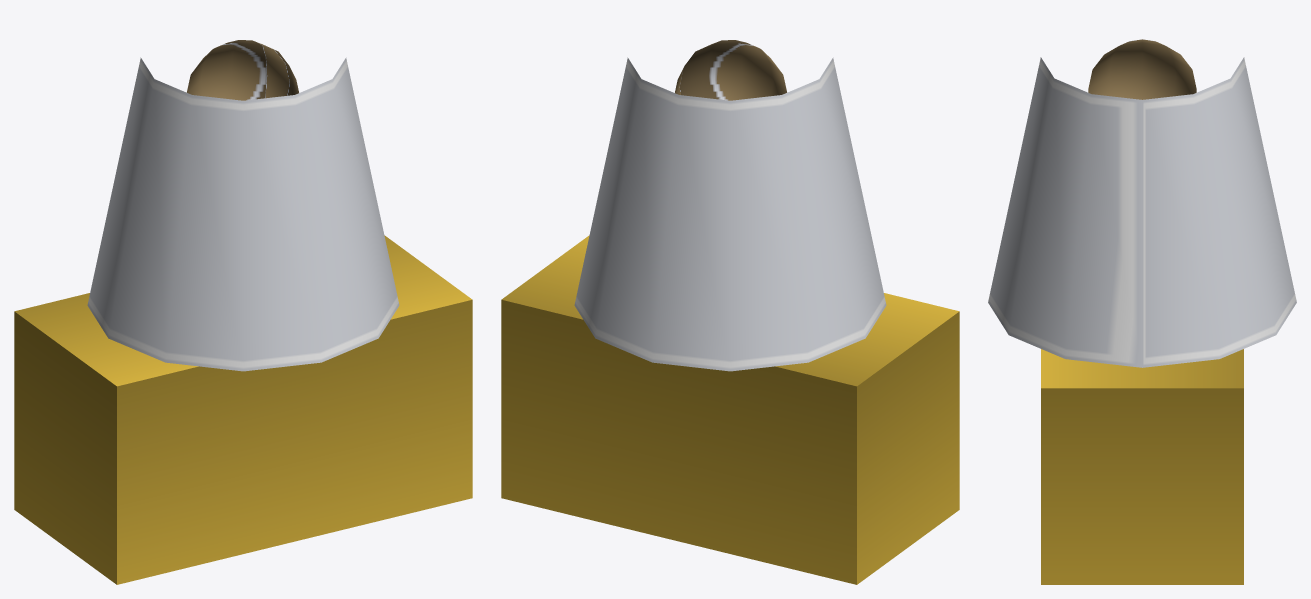
File: market_scales.glb
The picture shows the model from 3 angles, left to right: view 1: azimuth 30°, elevation 25°; view 2: azimuth 150°, elevation 25°; view 3: azimuth 270°, elevation 25°; orthographic projection.
Visible parts, largest first — view 1: market_scales; view 2: market_scales; view 3: market_scales.
Boxes of the visible parts, bbox=[...] form: market_scales: bbox=[14, 40, 472, 584]; market_scales: bbox=[501, 40, 959, 584]; market_scales: bbox=[988, 39, 1296, 584].
Bounding box in the file's own units: 1.2 × 1.48 × 0.912.
1 material, 1 textured.
